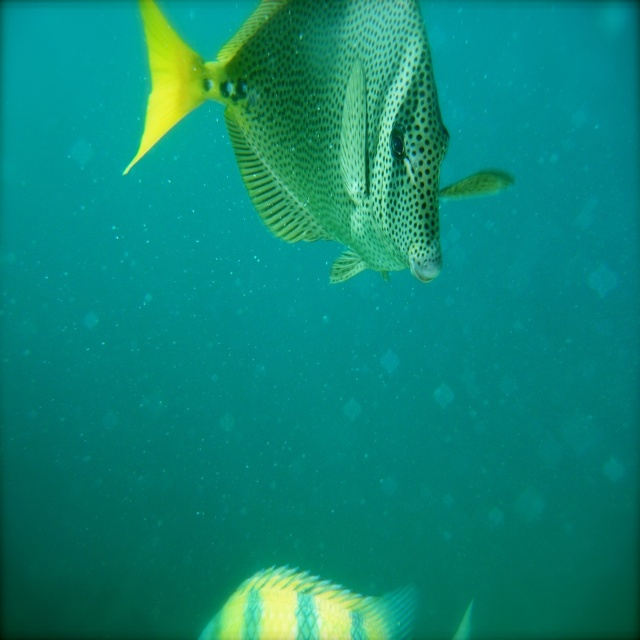Fish: (111, 0, 511, 285), (199, 565, 475, 639)
